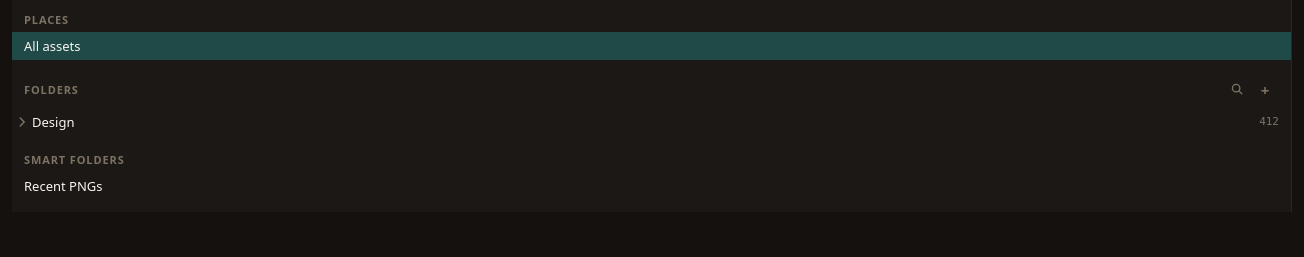
Test: the navigation pane › offers Move to top level only where there is somewhere to move from
Click the button named "Expand Design" at (22, 122), box [12, 112, 32, 132]
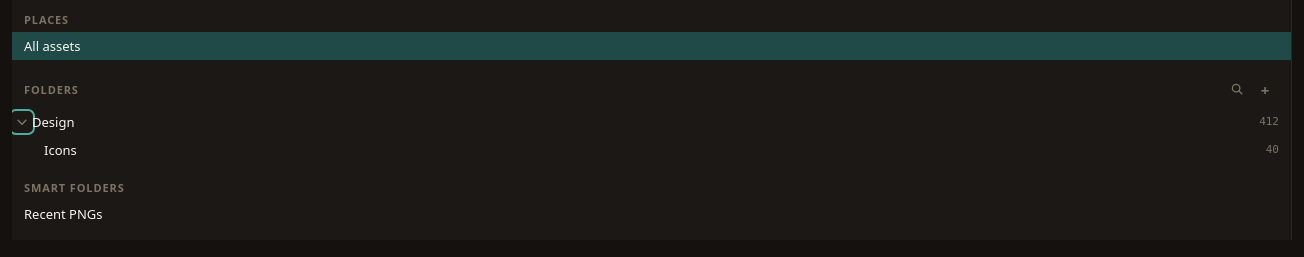
Right-click the button "Icons 40" at (60, 150), box [44, 136, 1291, 164]
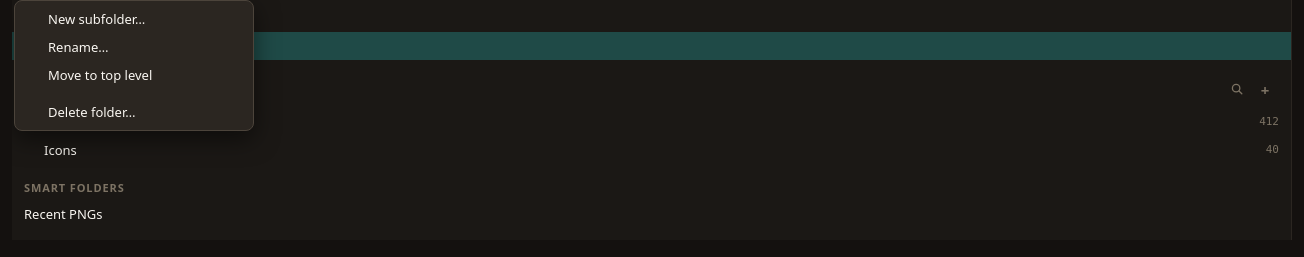
Expected: the menu is shown, [14, 0, 254, 131]
Click the menu item "Move to top level" at (100, 75), box [48, 66, 152, 84]
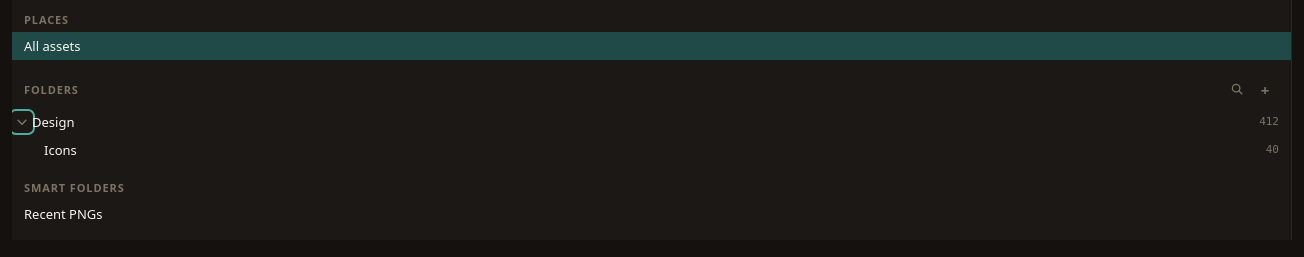
Right-click the button "Design 412" at (53, 122), box [32, 108, 1291, 136]
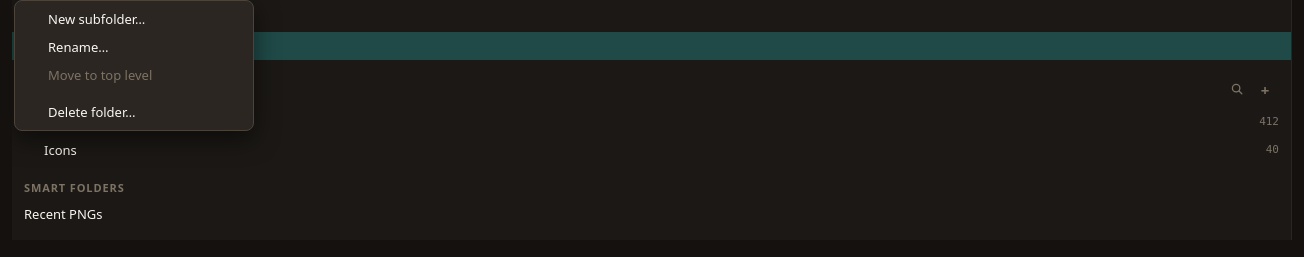
Expected: the menu is shown, [14, 0, 254, 131]
